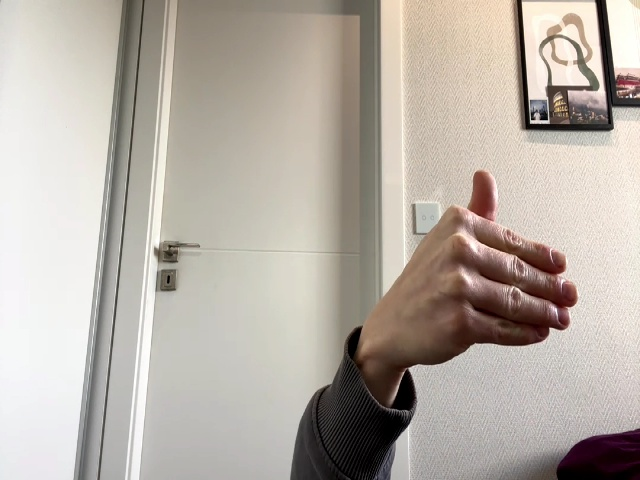M: (394, 170, 579, 396)
